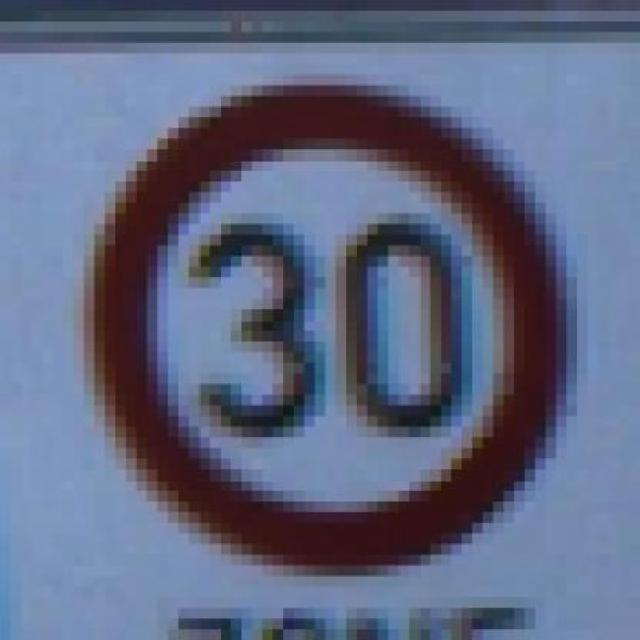Speed Limit 30 KMPh: (42, 75, 609, 587)
